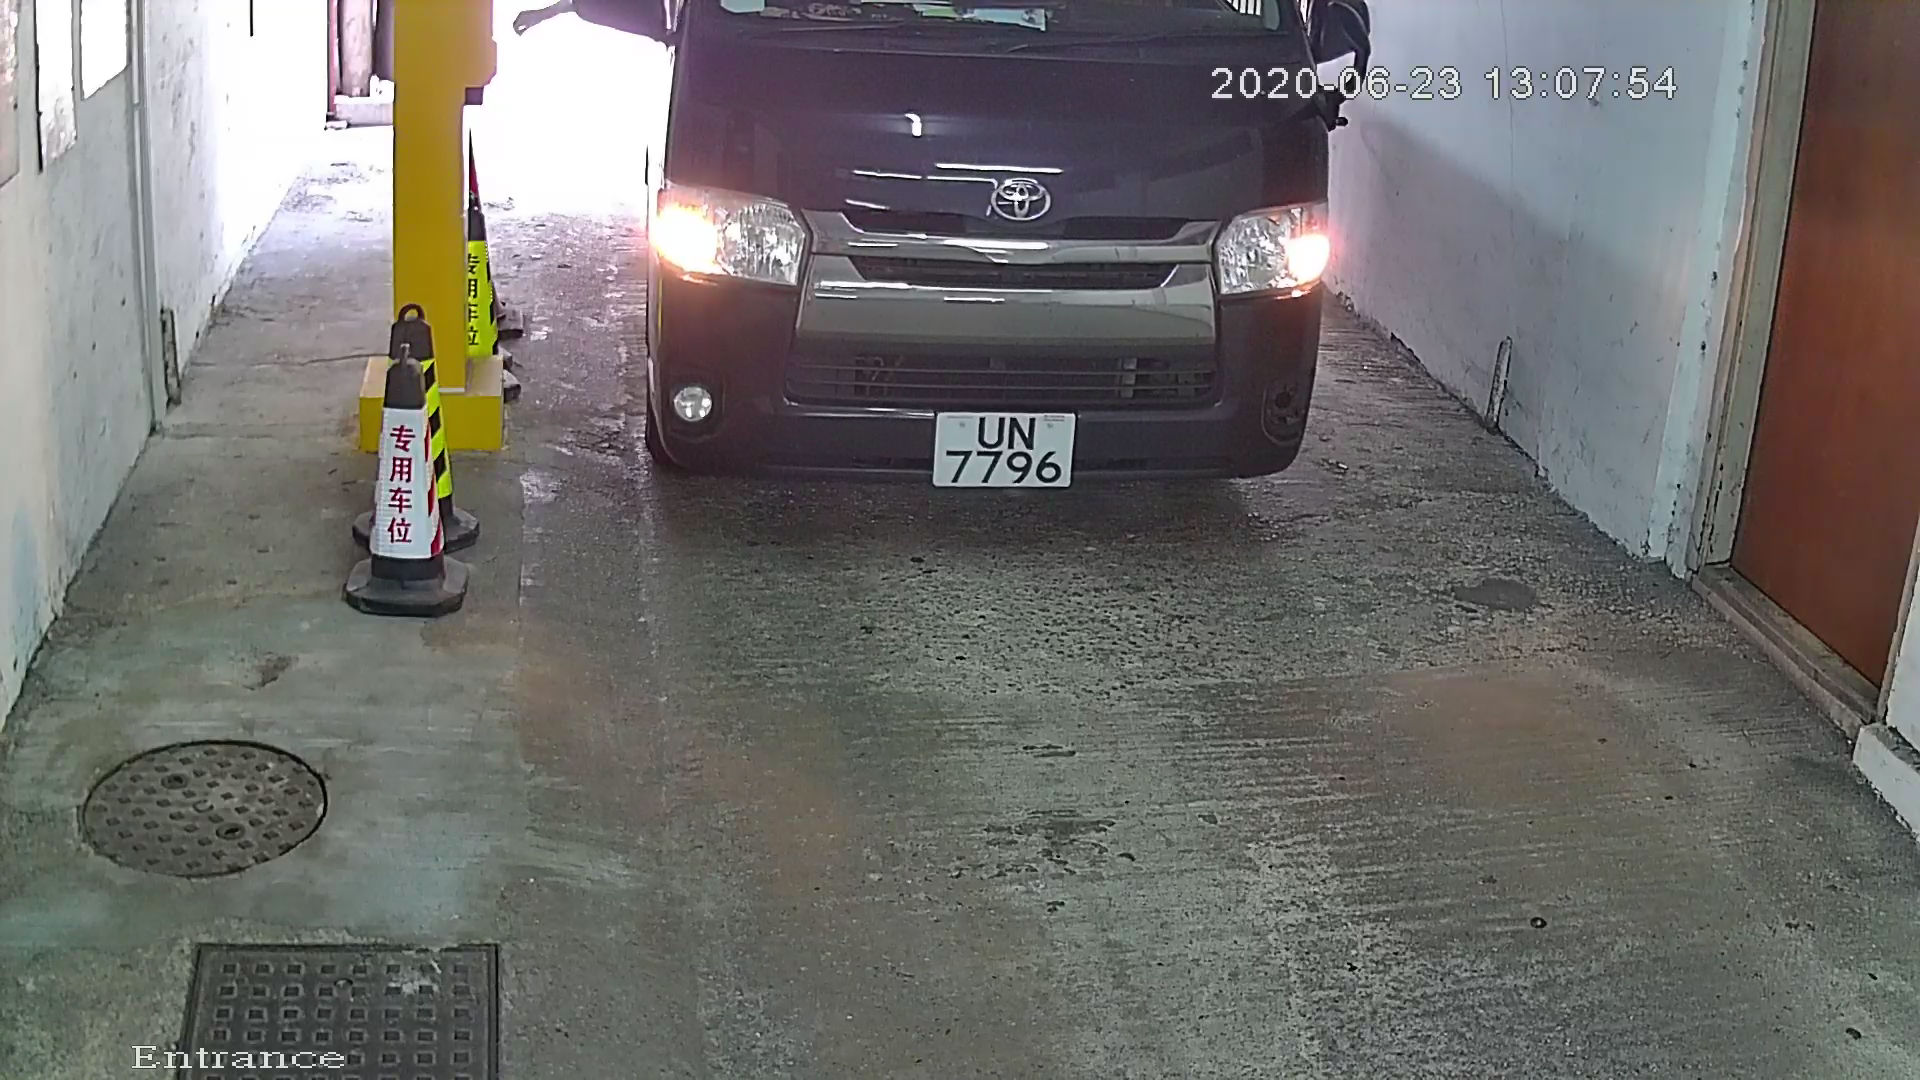van_s: (591, 3, 1404, 568)
